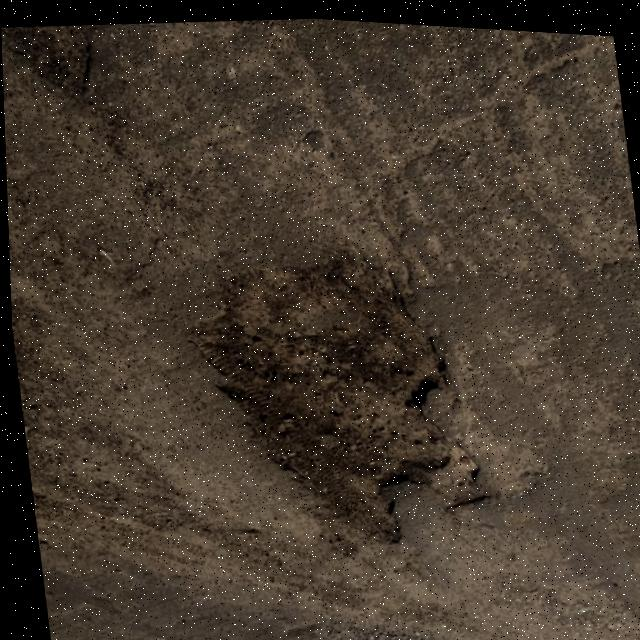Pothole: (171, 232, 495, 567), (1, 18, 107, 110)
